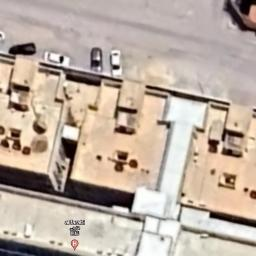sedan: (86, 44, 104, 76), (41, 50, 70, 68)
unknown: (6, 38, 38, 58), (106, 46, 124, 80)
